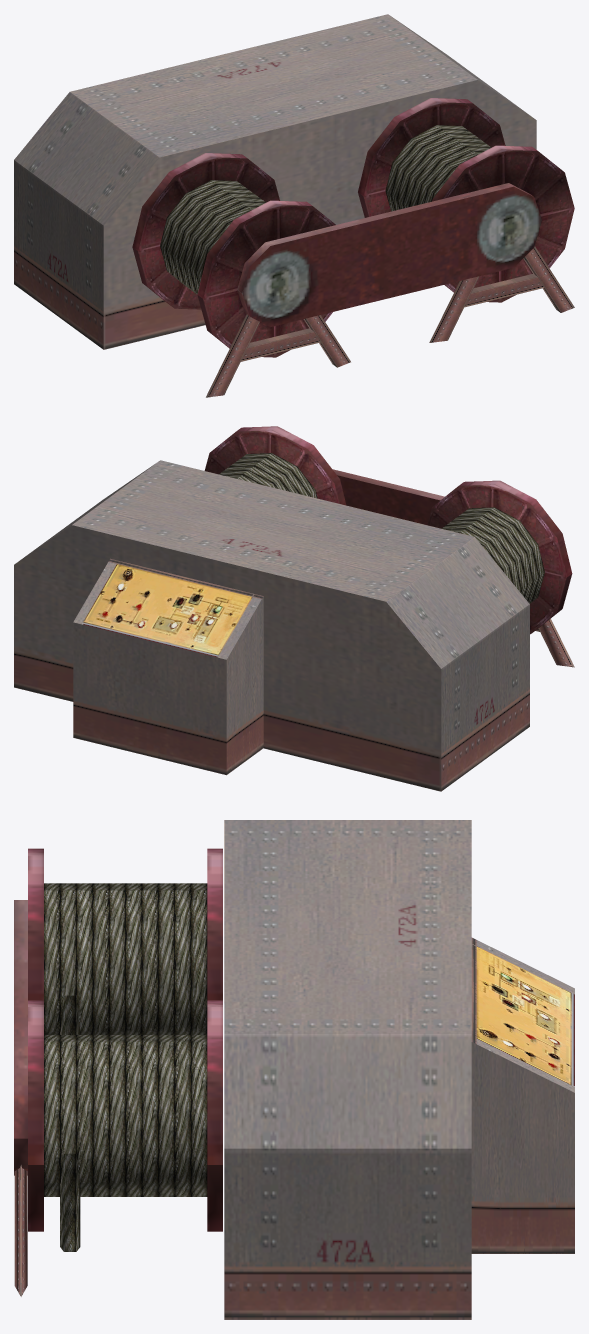
The model's file is OWINC01.glb.
The picture shows the model from 3 angles, top to bottom: view 1: azimuth 30°, elevation 25°; view 2: azimuth 150°, elevation 25°; view 3: azimuth 270°, elevation 25°; orthographic projection. The views are drawn at different scales.
Parts seen in each view (by area): view 1: _OWINC01; view 2: _OWINC01; view 3: _OWINC01.
Part boxes in pixels (<box>): _OWINC01: <box>14,14,574,397</box>; _OWINC01: <box>14,426,574,791</box>; _OWINC01: <box>14,820,574,1319</box>.
Bounding box in the file's own units: 5.63 × 2.23 × 4.59.
Materials: 3 (3 with a texture image).
